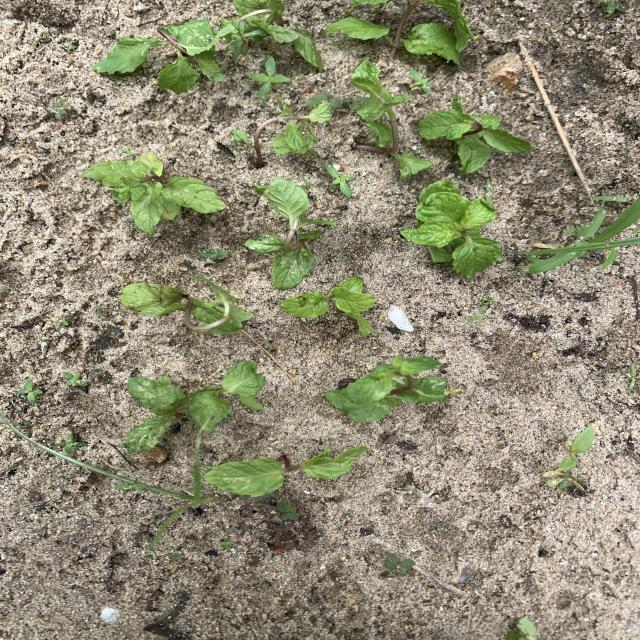crop: (125, 360, 263, 453), (83, 152, 223, 232), (246, 179, 338, 287), (401, 181, 499, 278), (325, 0, 472, 64), (95, 20, 223, 93), (353, 60, 431, 177), (420, 95, 530, 172), (326, 356, 447, 422), (206, 446, 366, 495), (122, 277, 254, 335), (234, 99, 333, 162), (234, 1, 321, 67), (282, 278, 374, 335), (507, 618, 536, 639)
weed: (3, 416, 206, 554), (516, 196, 639, 271), (220, 20, 262, 59), (249, 57, 288, 98), (561, 427, 594, 471), (544, 471, 586, 492), (328, 165, 355, 195), (384, 553, 415, 575), (18, 379, 42, 402), (306, 93, 339, 107), (57, 434, 83, 451), (411, 69, 431, 91), (277, 502, 299, 519), (625, 362, 639, 388), (596, 1, 624, 14), (52, 99, 71, 118), (63, 372, 87, 386), (343, 96, 367, 109), (200, 249, 227, 259), (481, 296, 495, 309), (220, 539, 231, 546), (169, 553, 180, 559), (58, 318, 67, 325)
